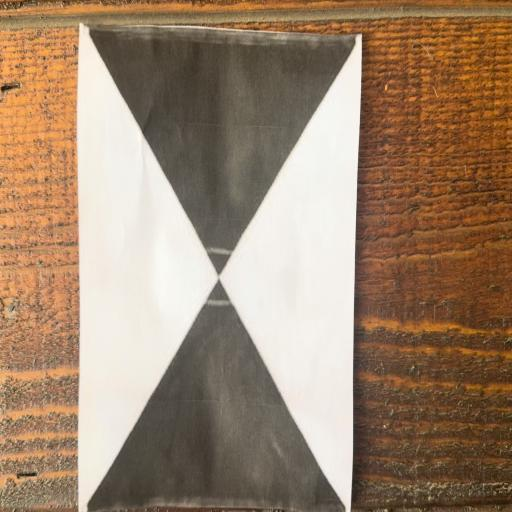target: (78, 25, 362, 512)
